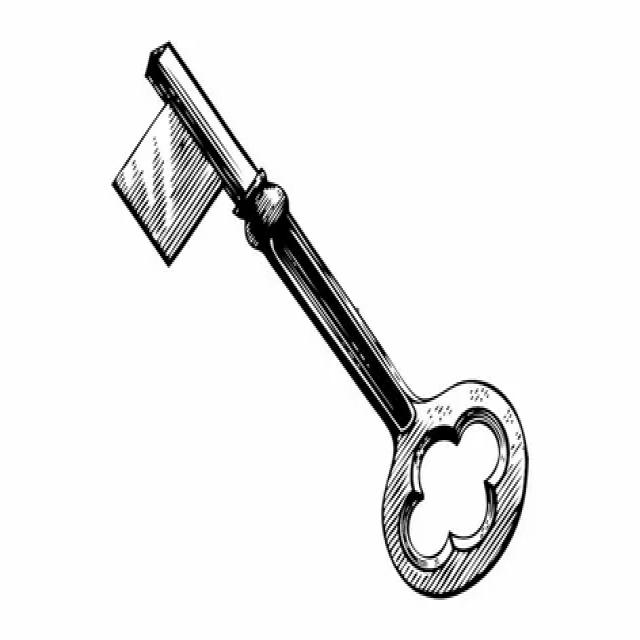key: (103, 0, 540, 610)
